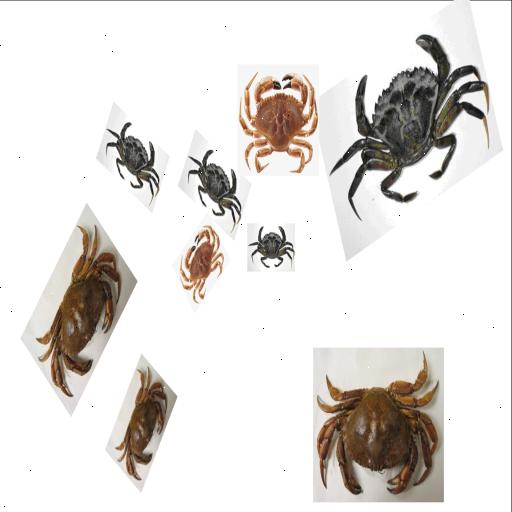green crab: (324, 10, 498, 226), (92, 114, 164, 208), (182, 130, 244, 230), (248, 220, 298, 270)
joe crab: (237, 70, 317, 175), (178, 220, 224, 304)
rock crab: (312, 340, 449, 506), (25, 210, 125, 399), (116, 359, 170, 484)
